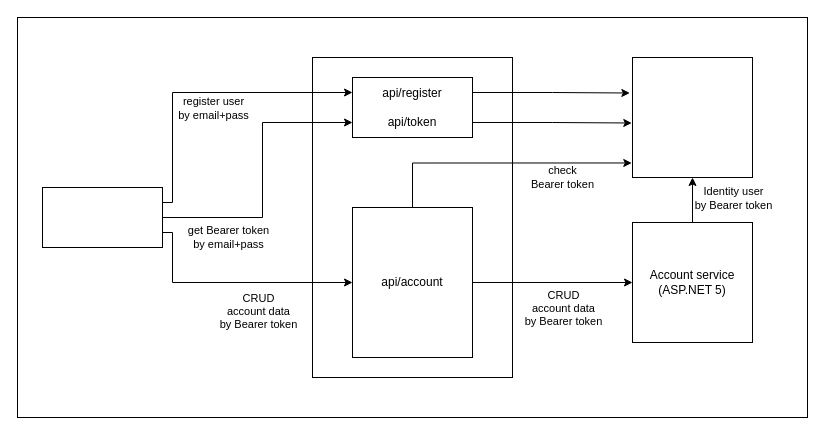
Some shapes in this 825 by 435 pixel diagram are drawn without their labels. The centre of each missing label's shape, as x and y in pixels:
"Identity service (Identity Server v4, .NET 5)" goes at point 692,117.
"Postman" goes at point 102,217.
